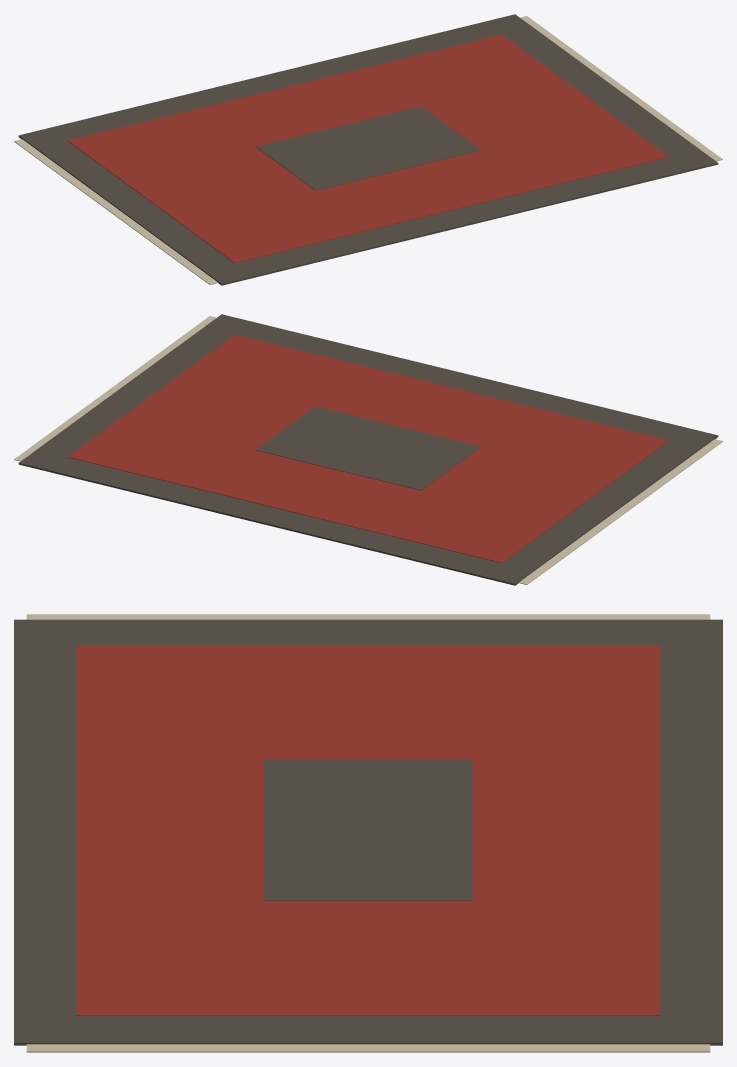
Rendered from rug-large.glb.
The picture shows the model from 3 angles, top to bottom: view 1: azimuth 30°, elevation 25°; view 2: azimuth 150°, elevation 25°; view 3: azimuth 270°, elevation 25°; orthographic projection. The views are drawn at different scales.
Visible parts, largest first — view 1: accent-warm, fabric, paper; view 2: accent-warm, fabric, paper; view 3: accent-warm, fabric, paper.
Part boxes in pixels (x1,y1,x2,y2): accent-warm: (67, 34, 668, 263); fabric: (18, 14, 718, 285); paper: (14, 16, 722, 284); accent-warm: (68, 334, 669, 563); fabric: (18, 314, 718, 585); paper: (14, 316, 722, 584); accent-warm: (76, 645, 660, 1015); fabric: (14, 619, 722, 1045); paper: (26, 614, 710, 1052).
Size of the model in its own units: 2.48 by 0.012 by 1.7.
